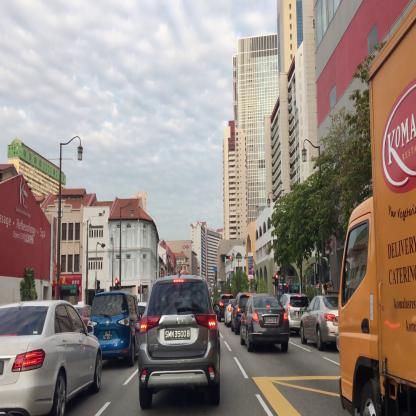red_traffic_light: (275, 273, 278, 286), (115, 279, 118, 290), (226, 255, 231, 258)
